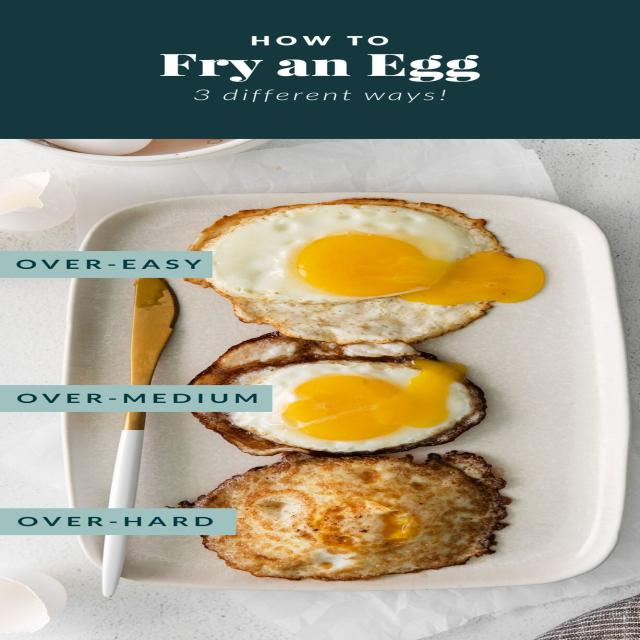Egg: (190, 454, 509, 580), (190, 332, 485, 455), (201, 202, 493, 304)
